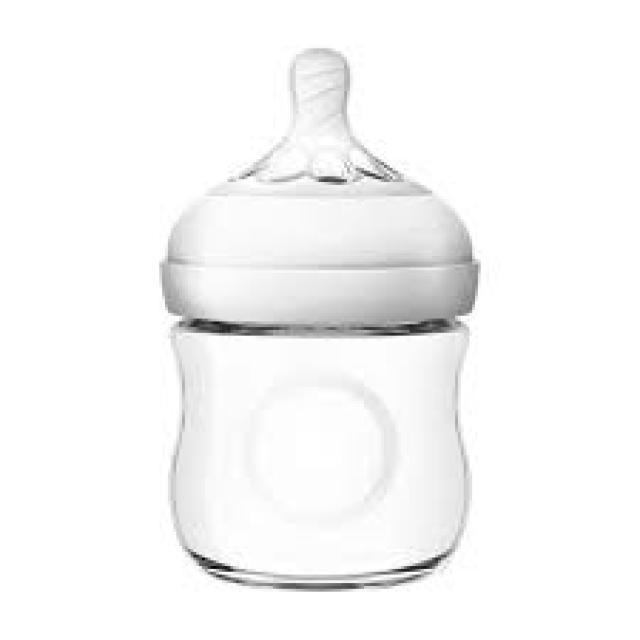good: (79, 70, 528, 599)
